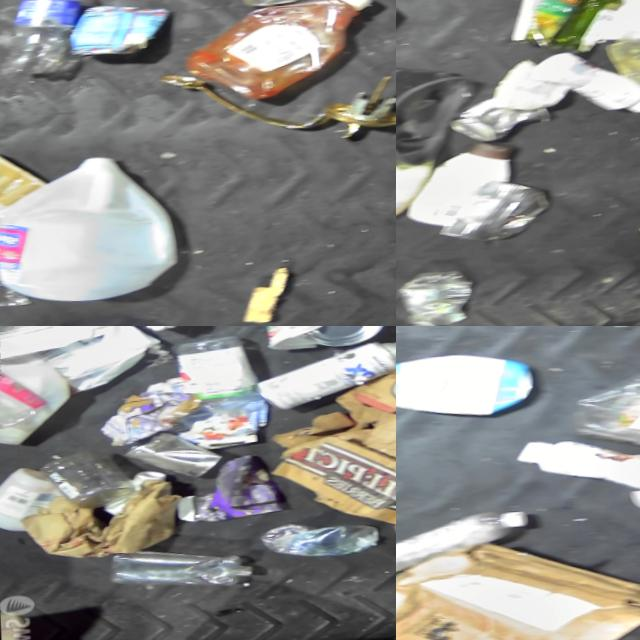can: (252, 341, 396, 412), (64, 0, 175, 61), (125, 428, 223, 484), (448, 97, 552, 146), (302, 326, 385, 349)
milk_jug: (64, 326, 162, 392), (0, 360, 70, 447), (0, 465, 57, 534)
non_white_jug: (0, 152, 180, 309), (180, 0, 381, 107), (396, 351, 536, 430), (396, 62, 479, 172), (568, 362, 640, 469), (0, 138, 51, 237)
plastic_bottle: (396, 507, 530, 581), (108, 545, 252, 596), (0, 0, 91, 76), (260, 519, 382, 563), (396, 269, 475, 326)
